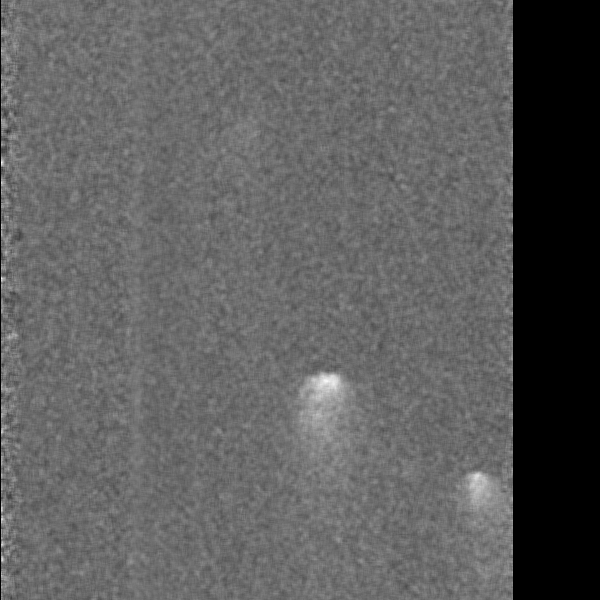spark: (295, 367, 354, 461), (460, 466, 490, 545)
